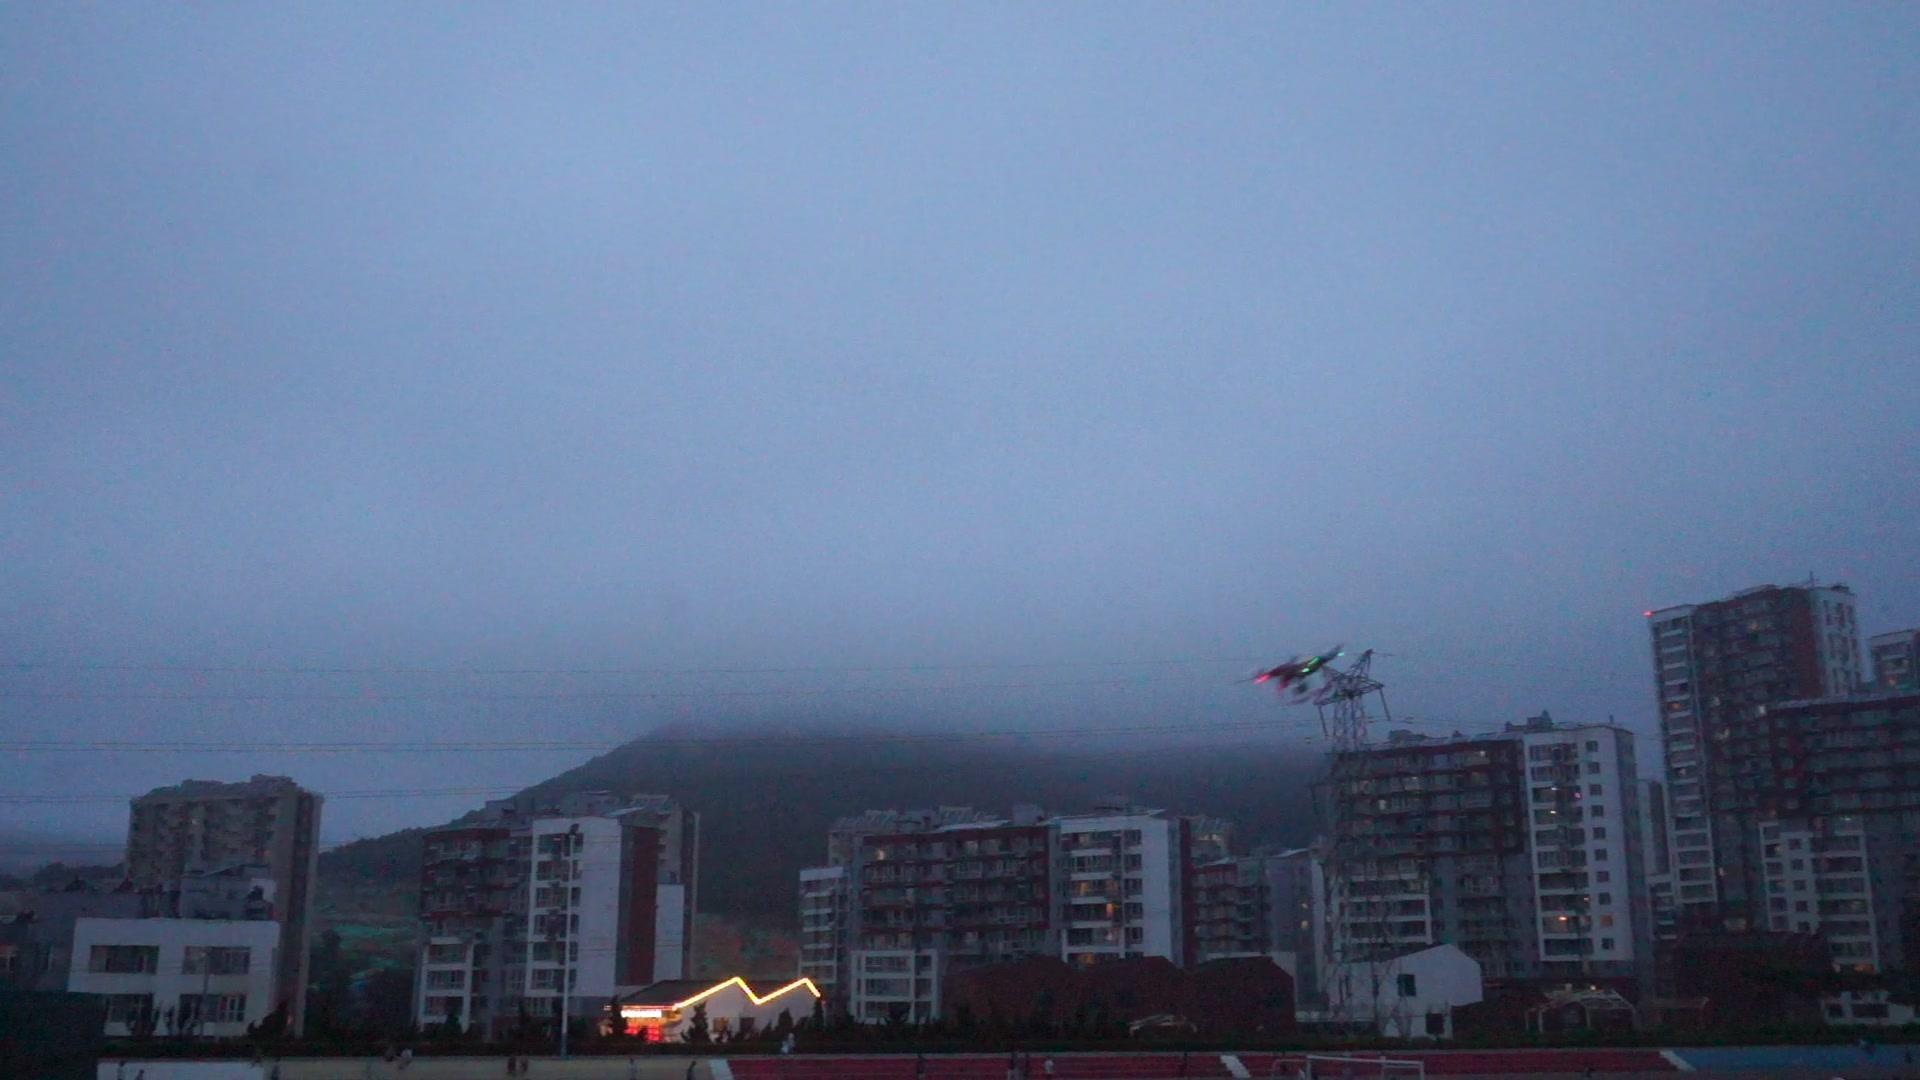UAV: (1233, 644, 1346, 707)
